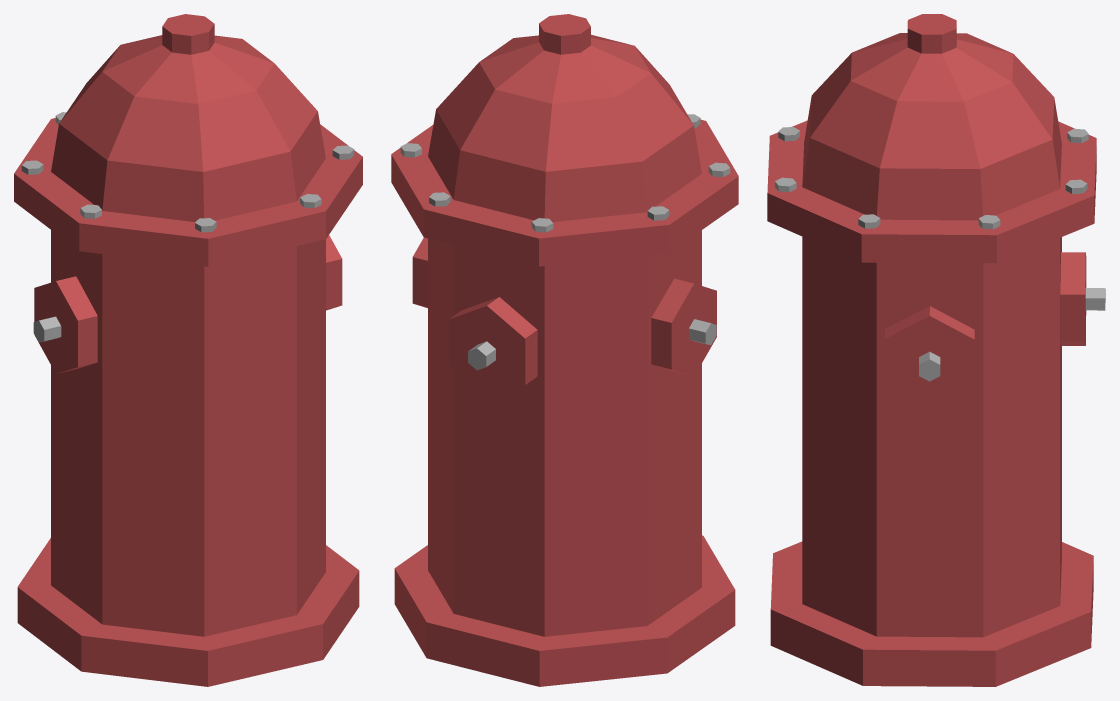
The model's file is Fire Hydrant.fbx.
The picture shows the model from 3 angles, left to right: view 1: azimuth 30°, elevation 25°; view 2: azimuth 150°, elevation 25°; view 3: azimuth 270°, elevation 25°; orthographic projection.
Parts seen in each view (by area): view 1: Fire Hydrant; view 2: Fire Hydrant; view 3: Fire Hydrant.
Part boxes in pixels (bbox=[...]): Fire Hydrant: bbox=[14, 14, 362, 686]; Fire Hydrant: bbox=[391, 14, 738, 686]; Fire Hydrant: bbox=[767, 14, 1105, 686].
Bounding box in the file's own units: 81.9 × 80.76 × 157.
